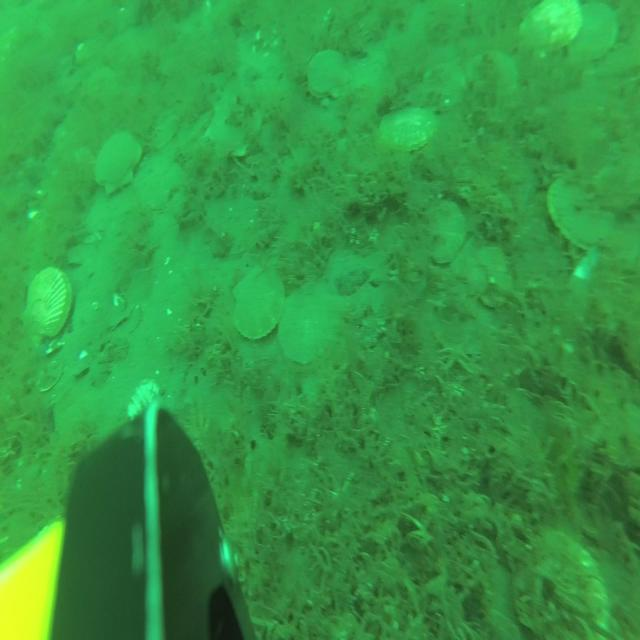scallop: (513, 532, 608, 640), (547, 172, 611, 256), (278, 287, 338, 363), (230, 263, 282, 340), (206, 90, 258, 157), (23, 266, 72, 335), (92, 132, 143, 195), (519, 0, 580, 52), (569, 0, 615, 63), (424, 202, 467, 266), (377, 105, 434, 150), (303, 49, 353, 99), (468, 49, 516, 94), (128, 380, 159, 424)
